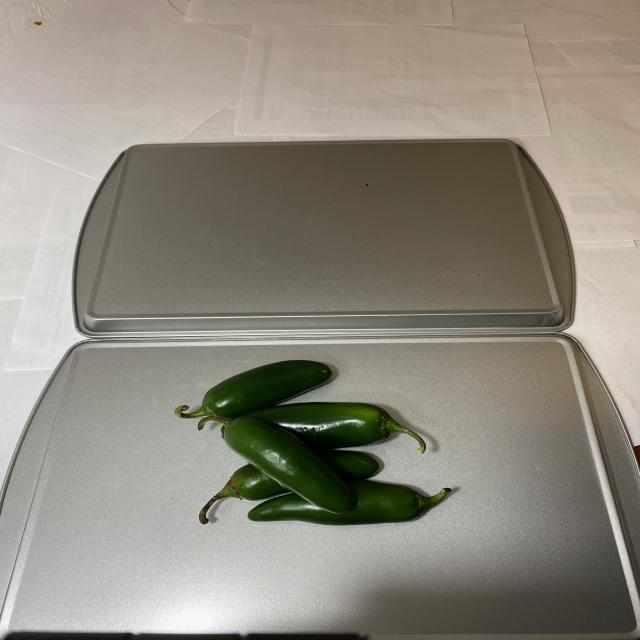chilli: (180, 351, 448, 522)
